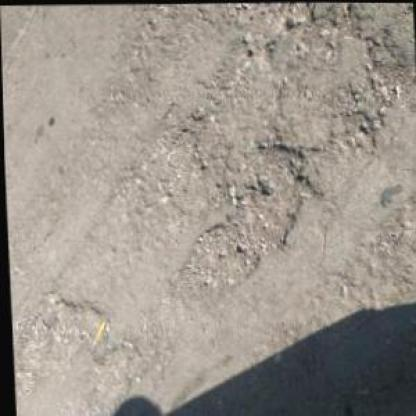pothole: (229, 133, 319, 257), (172, 214, 255, 305), (84, 337, 146, 403)
